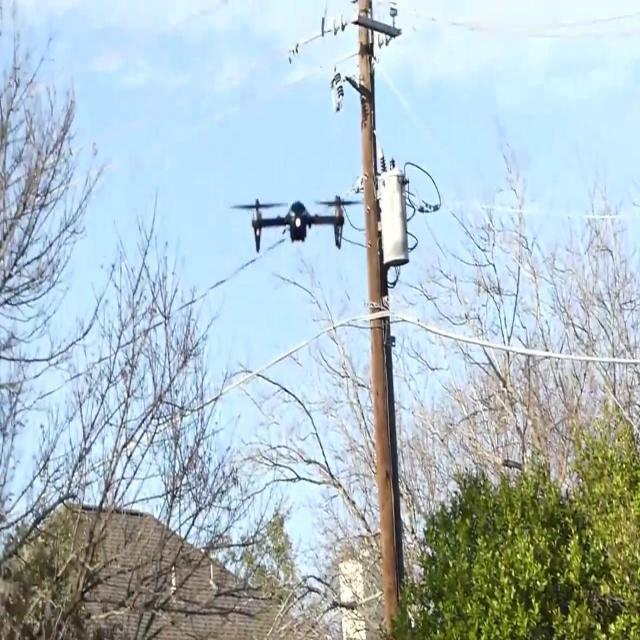UAV: (230, 196, 365, 254)
